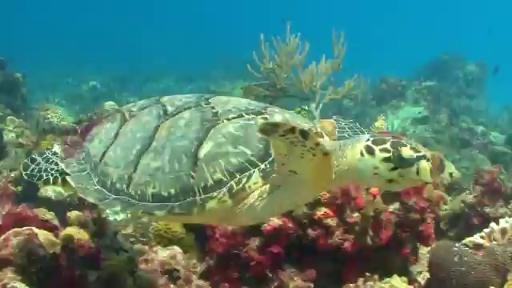Fish: (22, 94, 448, 225)
